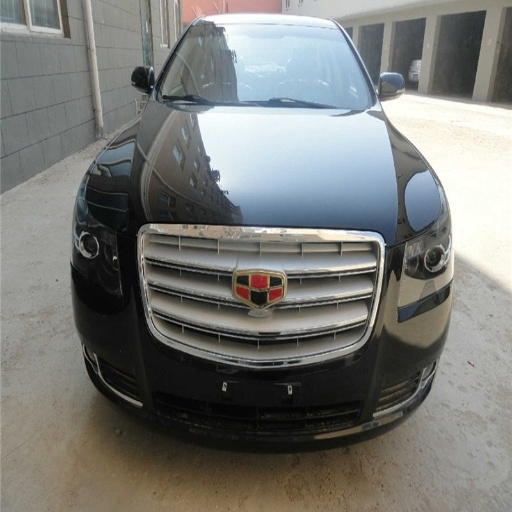front_bumper: (77, 242, 452, 450)
hood: (88, 98, 443, 332)
